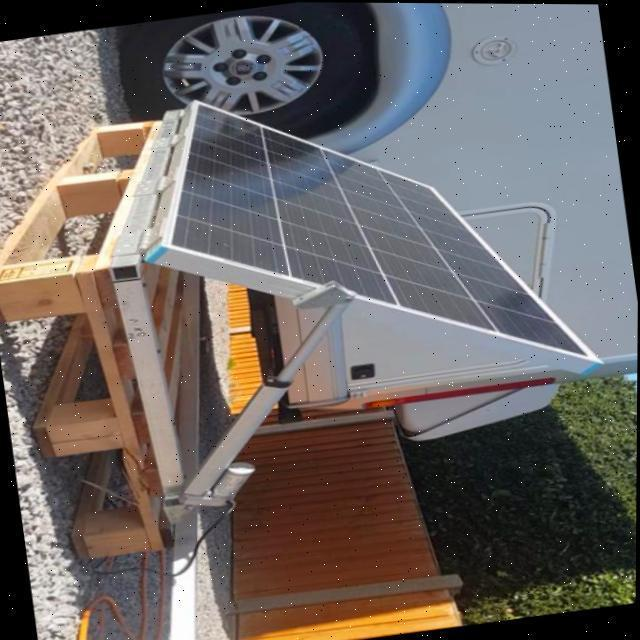Normal Solar Panel: (143, 52, 590, 418)
